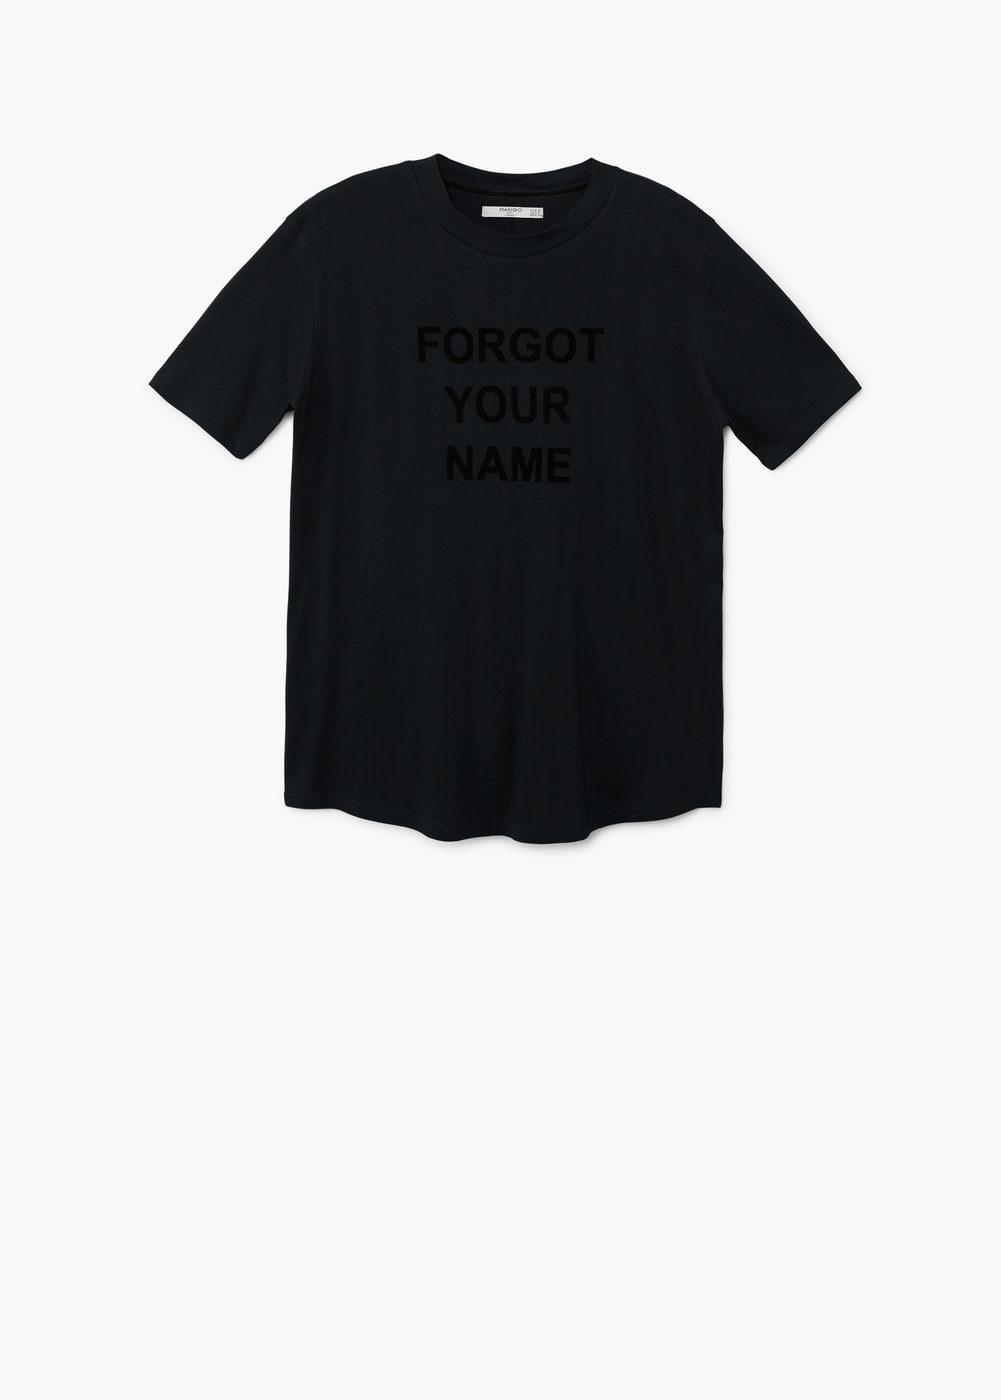teeshirt: (116, 140, 963, 872)
